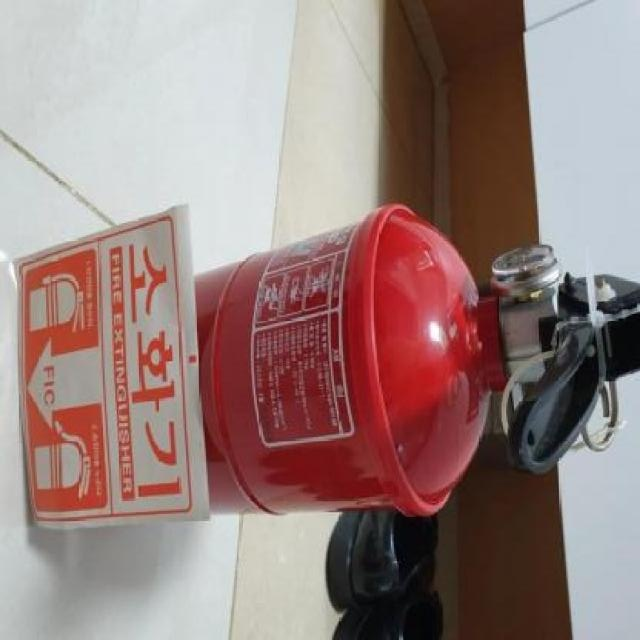fire extinguisher: (192, 204, 640, 516)
